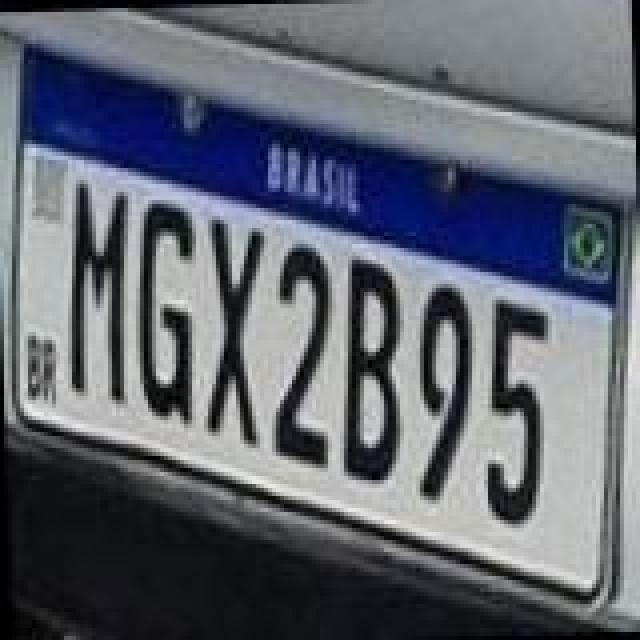2: (266, 234, 338, 470)
5: (474, 292, 558, 528)
9: (406, 274, 478, 502)
B: (332, 246, 408, 486)
G: (132, 192, 204, 428)
M: (56, 170, 132, 406)
X: (192, 212, 272, 452)
